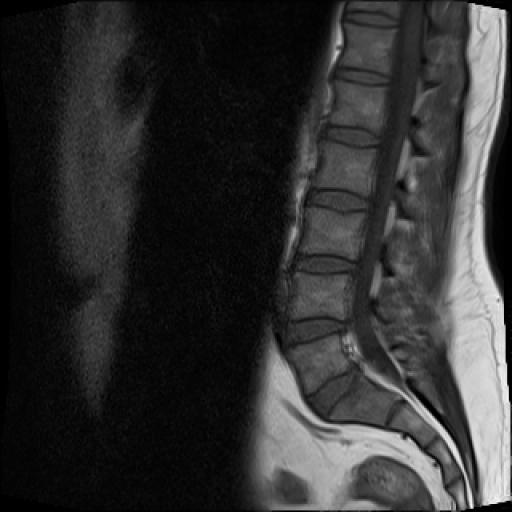L1: (328, 80, 389, 134)
L2: (311, 140, 377, 198)
L3: (299, 206, 365, 262)
L4: (288, 273, 350, 320)
L5: (285, 334, 352, 396)
S1: (329, 370, 404, 430)
